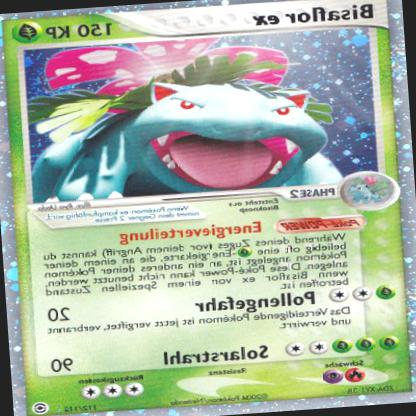Venusaur: (31, 35, 345, 202)
